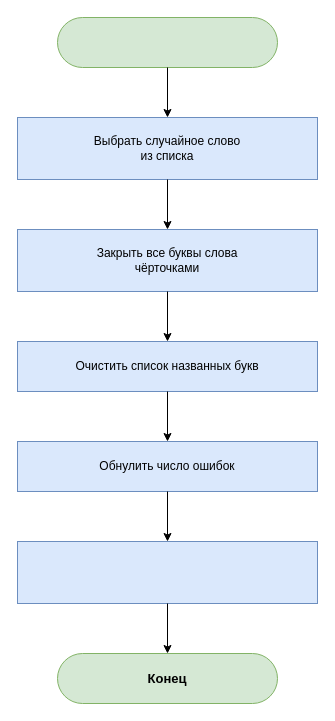
Image size: 335x721. Some labels were removed from this diagram. The shapes that lost their labels are listed below. From the top down, each one's box as (x1, y1, x2, y2) in pixels, then its label:
(56, 16, 278, 68): Начало: новая игра
(16, 540, 318, 604): Игра идёт, победы пока нет
